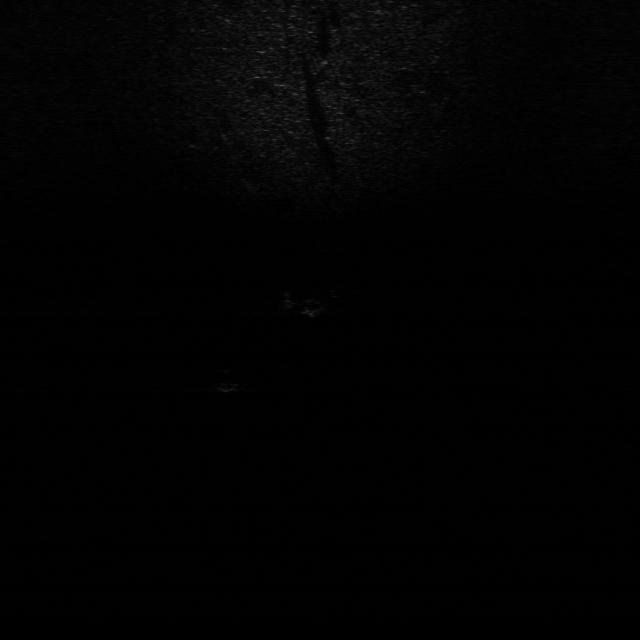ball: (214, 368, 247, 397)
human body: (281, 287, 347, 318)
